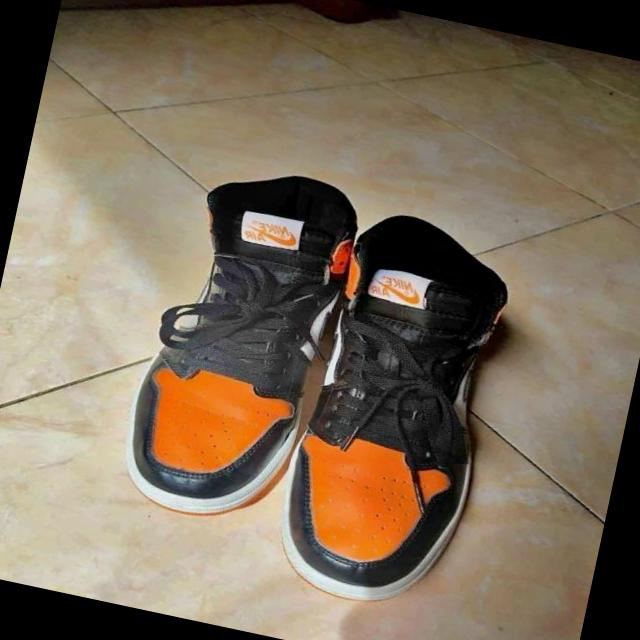nike_fake_jordan: (254, 196, 530, 624), (110, 149, 368, 534)
